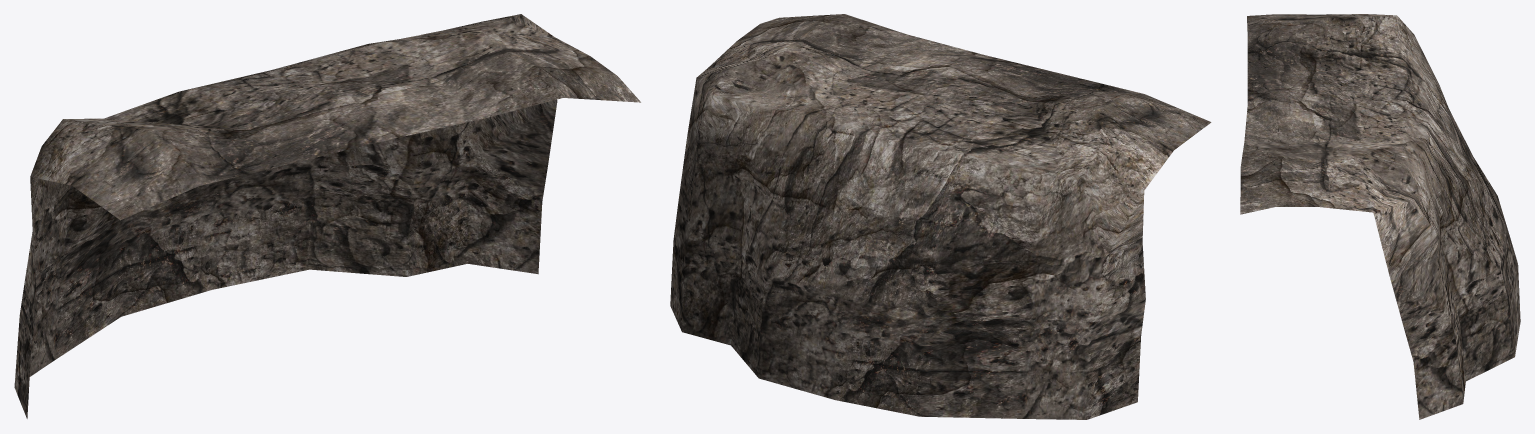
The model's file is Ext_Rock_02.FBX.
3 views of the same model, side by side, from view 1: azimuth 30°, elevation 25°; view 2: azimuth 150°, elevation 25°; view 3: azimuth 270°, elevation 25° (orthographic). The views are drawn at different scales.
Visible parts, largest first — view 1: Ext_Rock_02; view 2: Ext_Rock_02; view 3: Ext_Rock_02.
Boxes of the visible parts, x1=… form: Ext_Rock_02: x1=14, y1=14, x2=640, y2=418; Ext_Rock_02: x1=670, y1=14, x2=1211, y2=419; Ext_Rock_02: x1=1240, y1=14, x2=1520, y2=419.
Bounding box in the file's own units: 10234 × 5467 × 6016.
